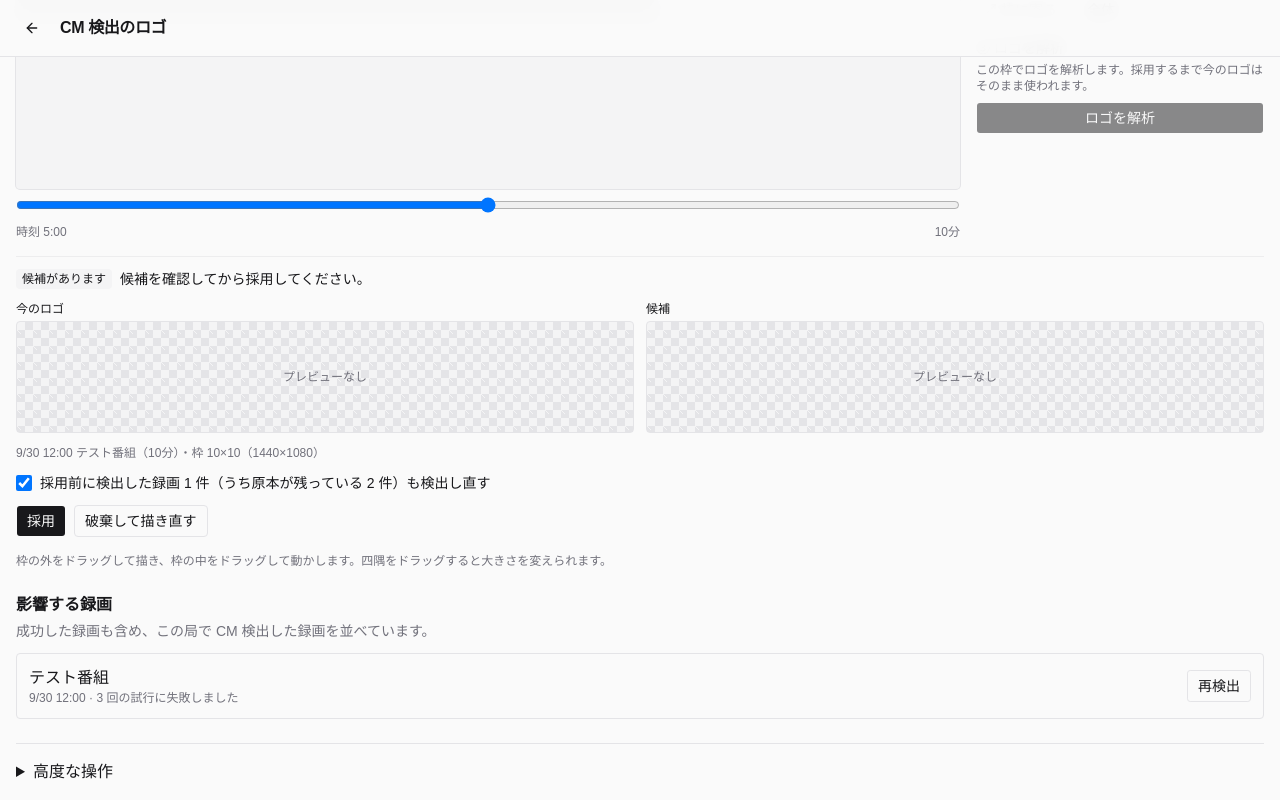
Test case: CMLogoStationPage › 原本を失った候補を破棄した後は解析不能の理由を表示してポーリングしない
This screenshot has width=1280, height=800.
(page scrolled)
Click the button with test id "cm-logo-candidate-discard". click: (141, 521)
box: x1=74 y1=505 x2=208 y2=537
(page scrolled)
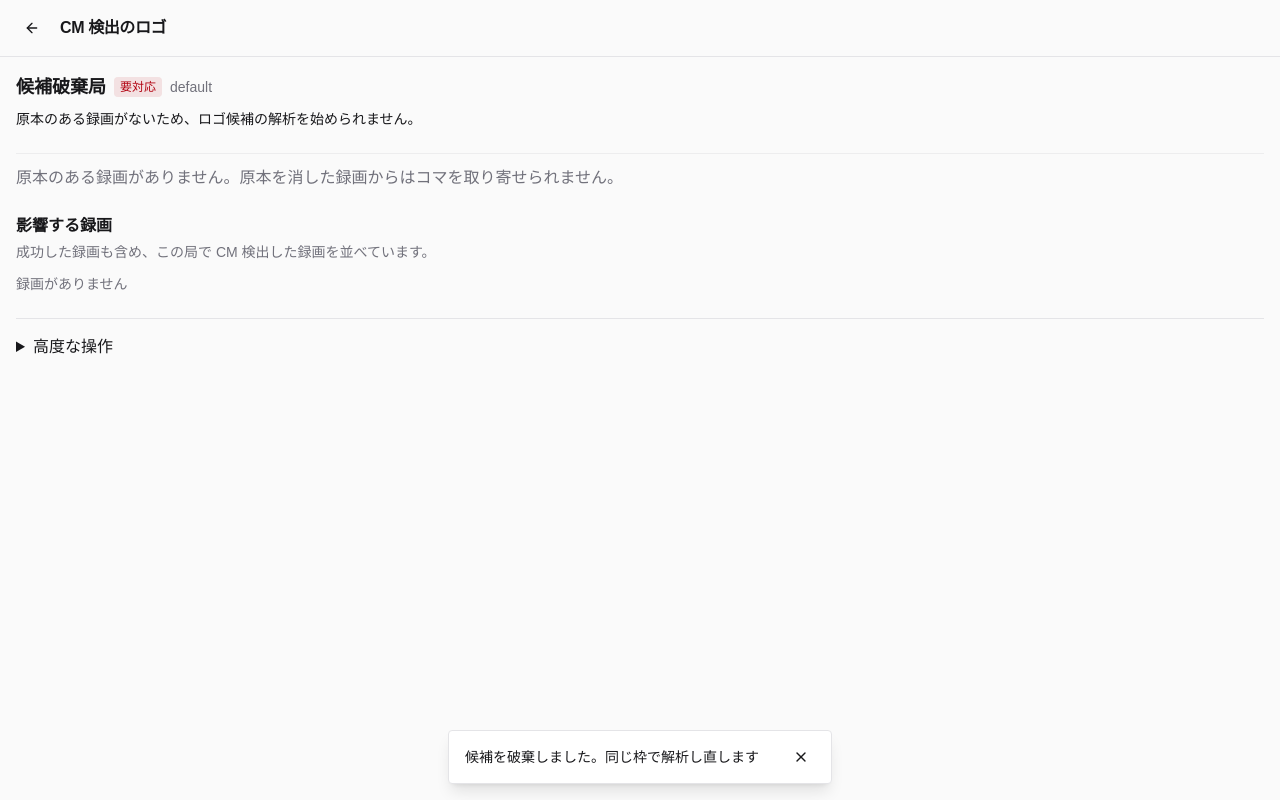
Now the text "原本のある録画がないため、ロゴ候補の解析を始められません。" is shown, box x1=16 y1=111 x2=422 y2=127
Now the text "原本のある録画がありません。原本を消した録画からはコマを取り寄せられません。" is shown, box x1=16 y1=153 x2=1264 y2=190
